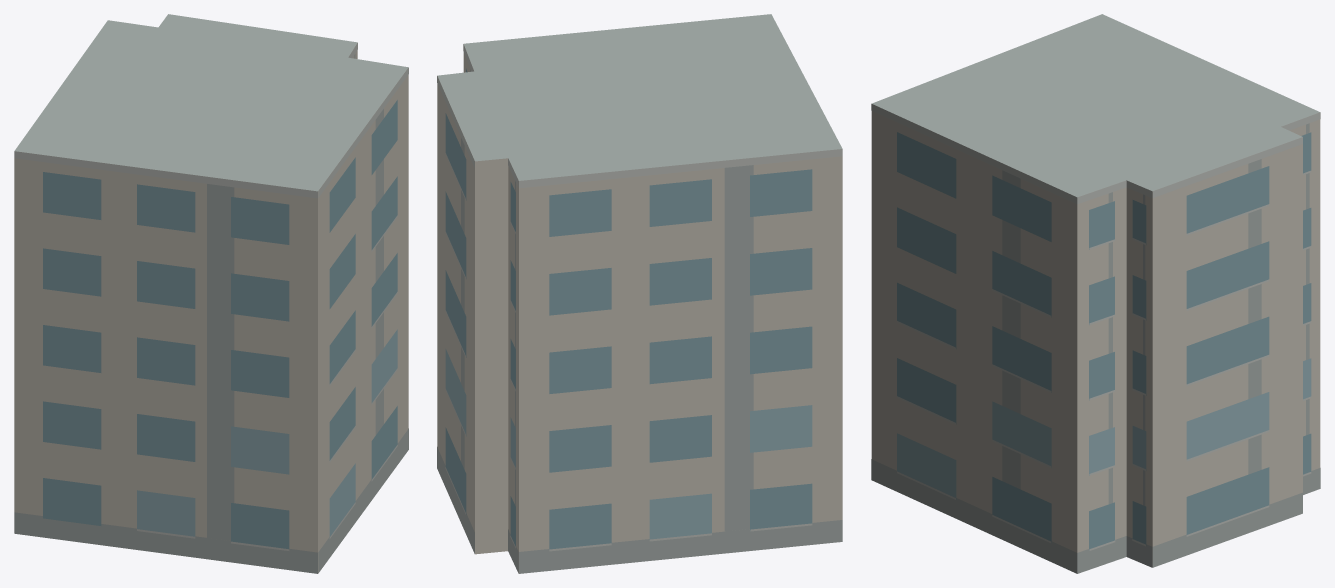
File: survey-upis-33007618.glb
3 renders of one model, left to right at view 1: azimuth 30°, elevation 25°; view 2: azimuth 150°, elevation 25°; view 3: azimuth 270°, elevation 25°, orthographic. The views are drawn at different scales.
Visible parts, largest first — view 1: survey-upis-33007618.tmp; view 2: survey-upis-33007618.tmp; view 3: survey-upis-33007618.tmp.
Part boxes in pixels (x1=…): survey-upis-33007618.tmp: x1=14, y1=14, x2=408, y2=573; survey-upis-33007618.tmp: x1=437, y1=14, x2=842, y2=573; survey-upis-33007618.tmp: x1=871, y1=14, x2=1320, y2=573.
Size of the model in its own units: 13.69 by 13.1 by 14.16.
